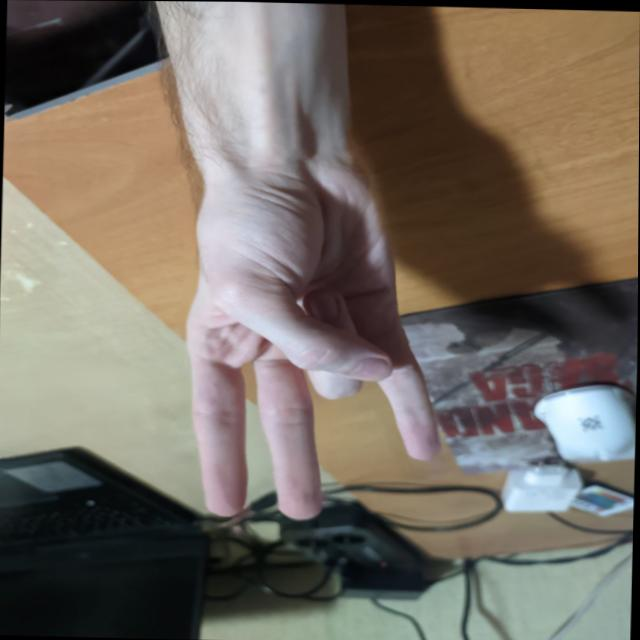n: (129, 143, 487, 539)
